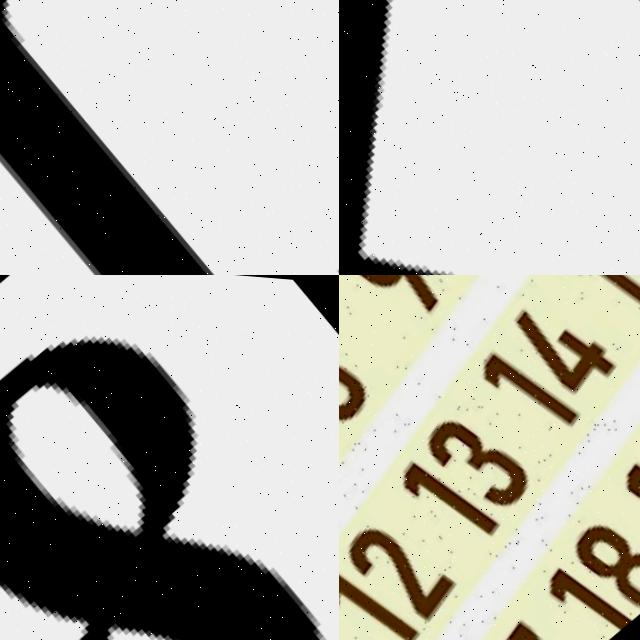1: (462, 317, 601, 454), (389, 428, 525, 562), (533, 530, 640, 640), (339, 540, 445, 640), (546, 275, 640, 339), (611, 427, 640, 558), (339, 600, 403, 640)
2: (339, 487, 483, 637)
3: (412, 383, 555, 525)
4: (487, 275, 640, 418)
7: (484, 583, 604, 640)
8: (0, 275, 339, 640), (553, 478, 640, 623), (339, 298, 396, 449)
9: (339, 275, 471, 340)
K: (339, 0, 640, 275)
L: (0, 0, 339, 275)
